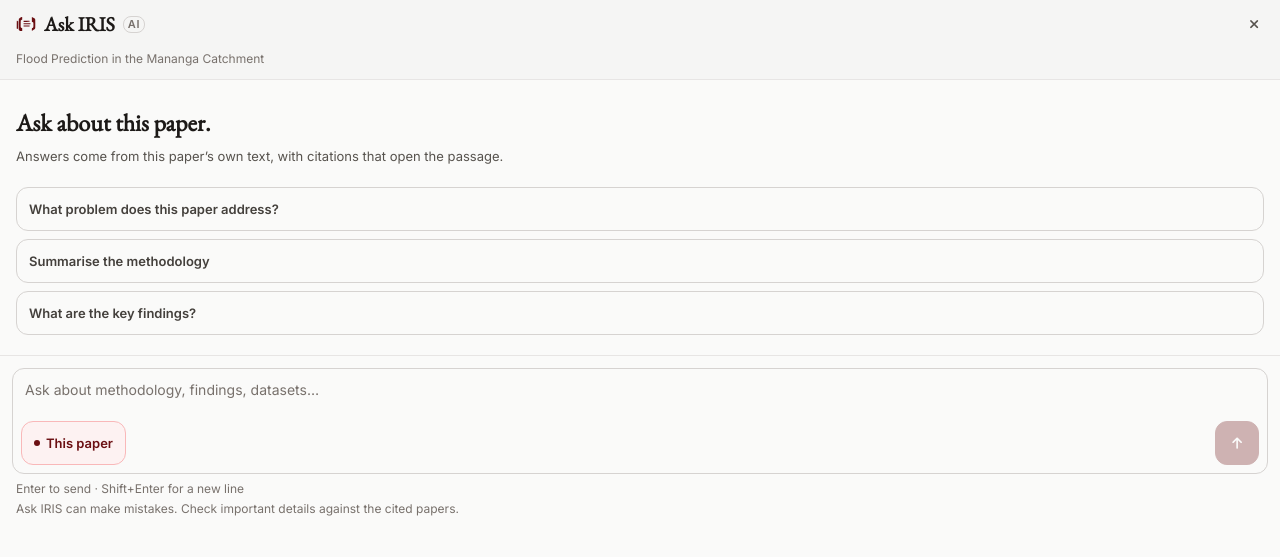
Test case: Paper Chat opens or continues a Conversation scoped to the Record › repeated empty opens create nothing, and concurrent first sends reuse the server default (IR-561)
Expected: the element named "suggested questions" is shown, [16,187,1264,335]
Type "A follow-up" into the text box named "ask about this paper". click: point(640, 395)
box: [13,369,1267,421]
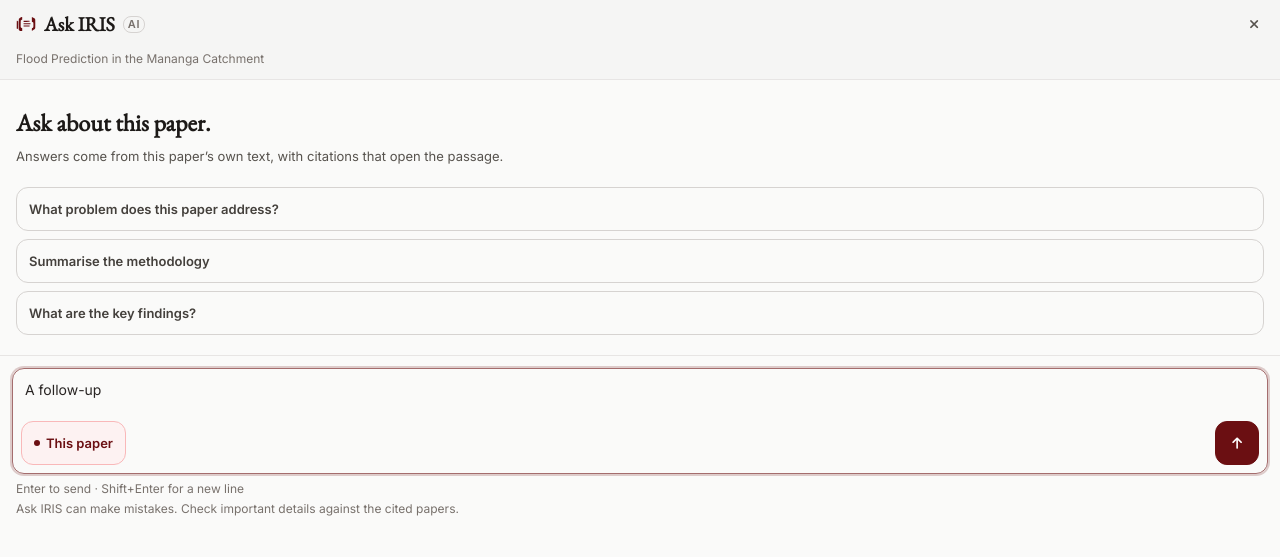
Double-click the button named "send" at point(1237, 443), box [1215,421,1259,465]
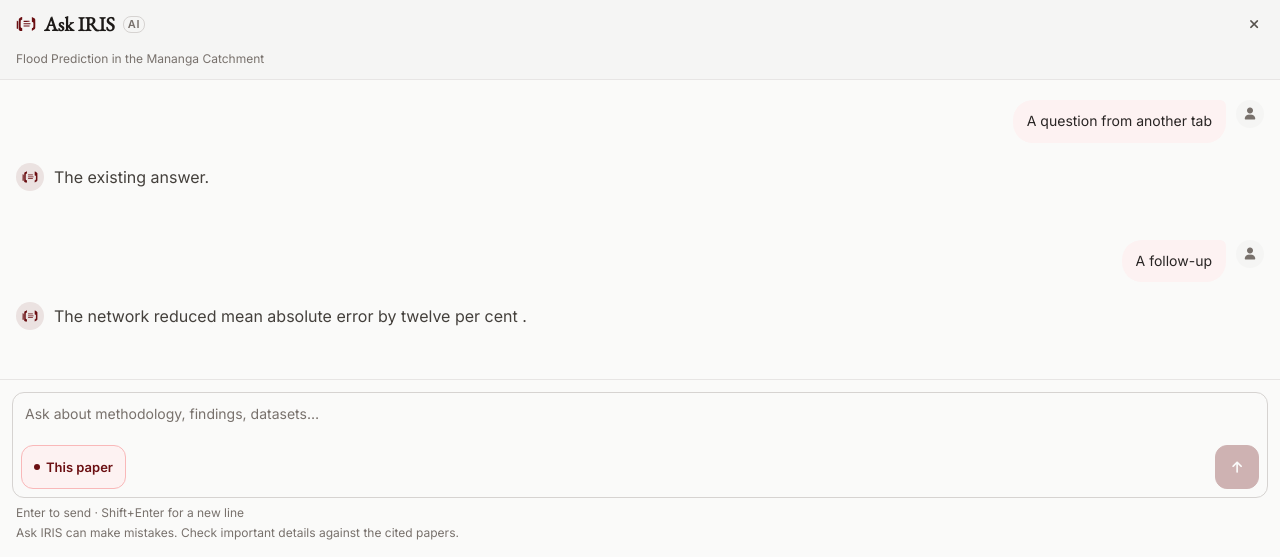
Expected: the text "The existing answer." is shown, [54,167,209,187]
